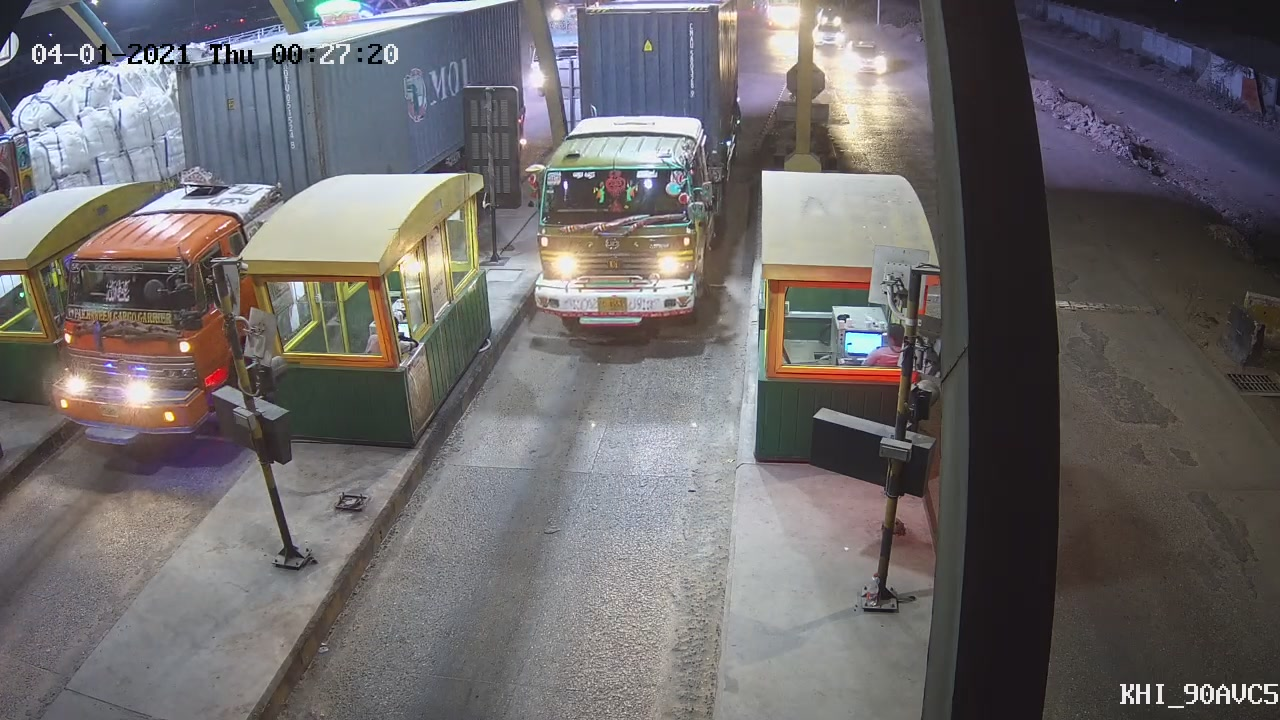F6: (514, 1, 753, 337)
